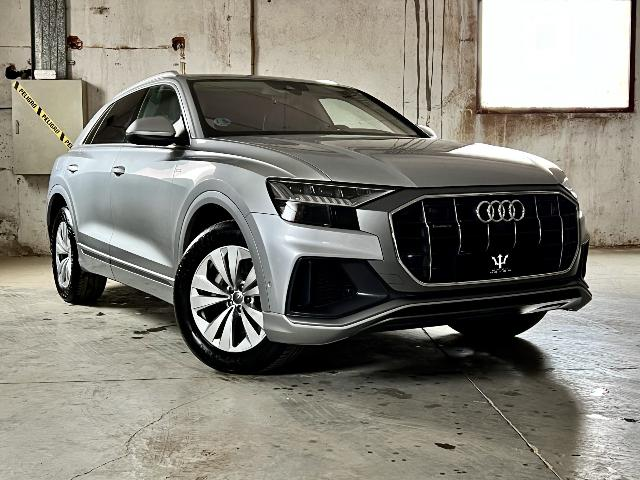audi: (45, 74, 592, 373)
